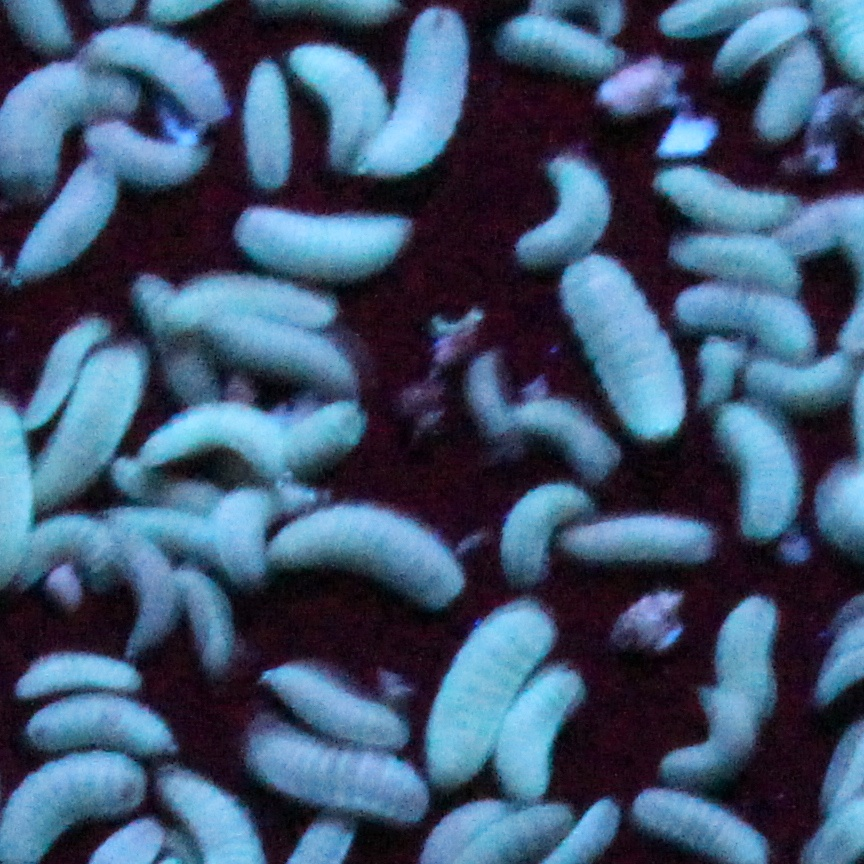larve: (241, 721, 438, 828), (564, 267, 687, 432), (271, 511, 464, 610), (427, 602, 538, 767), (386, 4, 470, 174), (236, 202, 410, 283), (292, 41, 395, 170), (10, 166, 127, 279), (90, 28, 231, 121), (44, 350, 135, 492), (264, 667, 407, 748), (128, 274, 214, 403), (717, 406, 800, 539), (154, 279, 338, 337), (211, 312, 348, 388), (685, 288, 814, 361), (508, 668, 581, 793), (146, 407, 280, 475), (705, 598, 785, 707), (527, 154, 608, 261), (172, 568, 247, 681), (560, 515, 712, 568), (523, 393, 623, 473), (669, 690, 759, 776), (650, 171, 793, 225), (99, 126, 209, 193), (671, 234, 798, 291), (6, 652, 147, 703), (506, 478, 581, 573), (495, 16, 603, 79), (107, 500, 216, 560), (36, 706, 171, 754), (756, 56, 828, 145), (243, 64, 292, 192), (121, 529, 169, 652), (286, 407, 366, 478), (213, 491, 274, 581), (35, 521, 116, 587), (722, 8, 811, 68), (752, 361, 852, 409), (463, 360, 519, 435), (30, 318, 76, 407)
